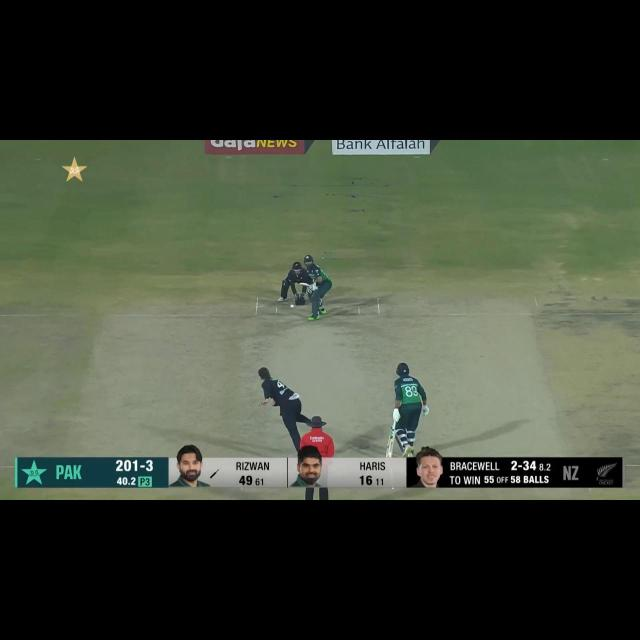bat: (386, 427, 394, 458), (298, 280, 311, 288)
toe: (385, 450, 393, 458), (298, 282, 304, 286)
